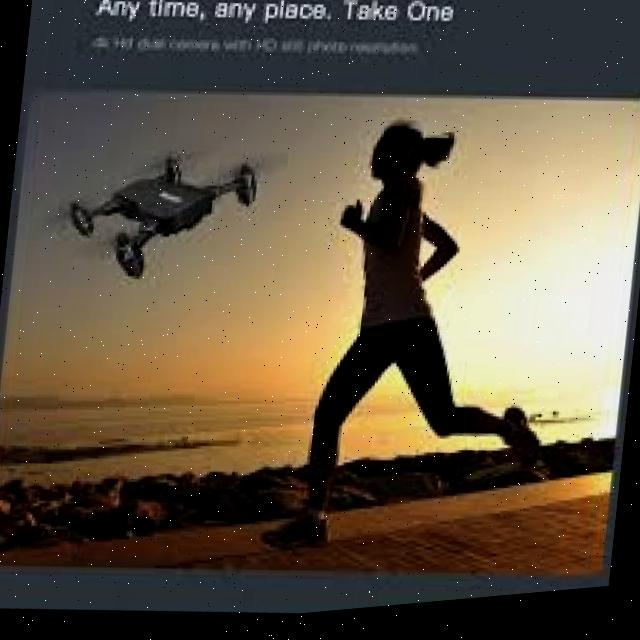drone: (46, 123, 282, 300)
